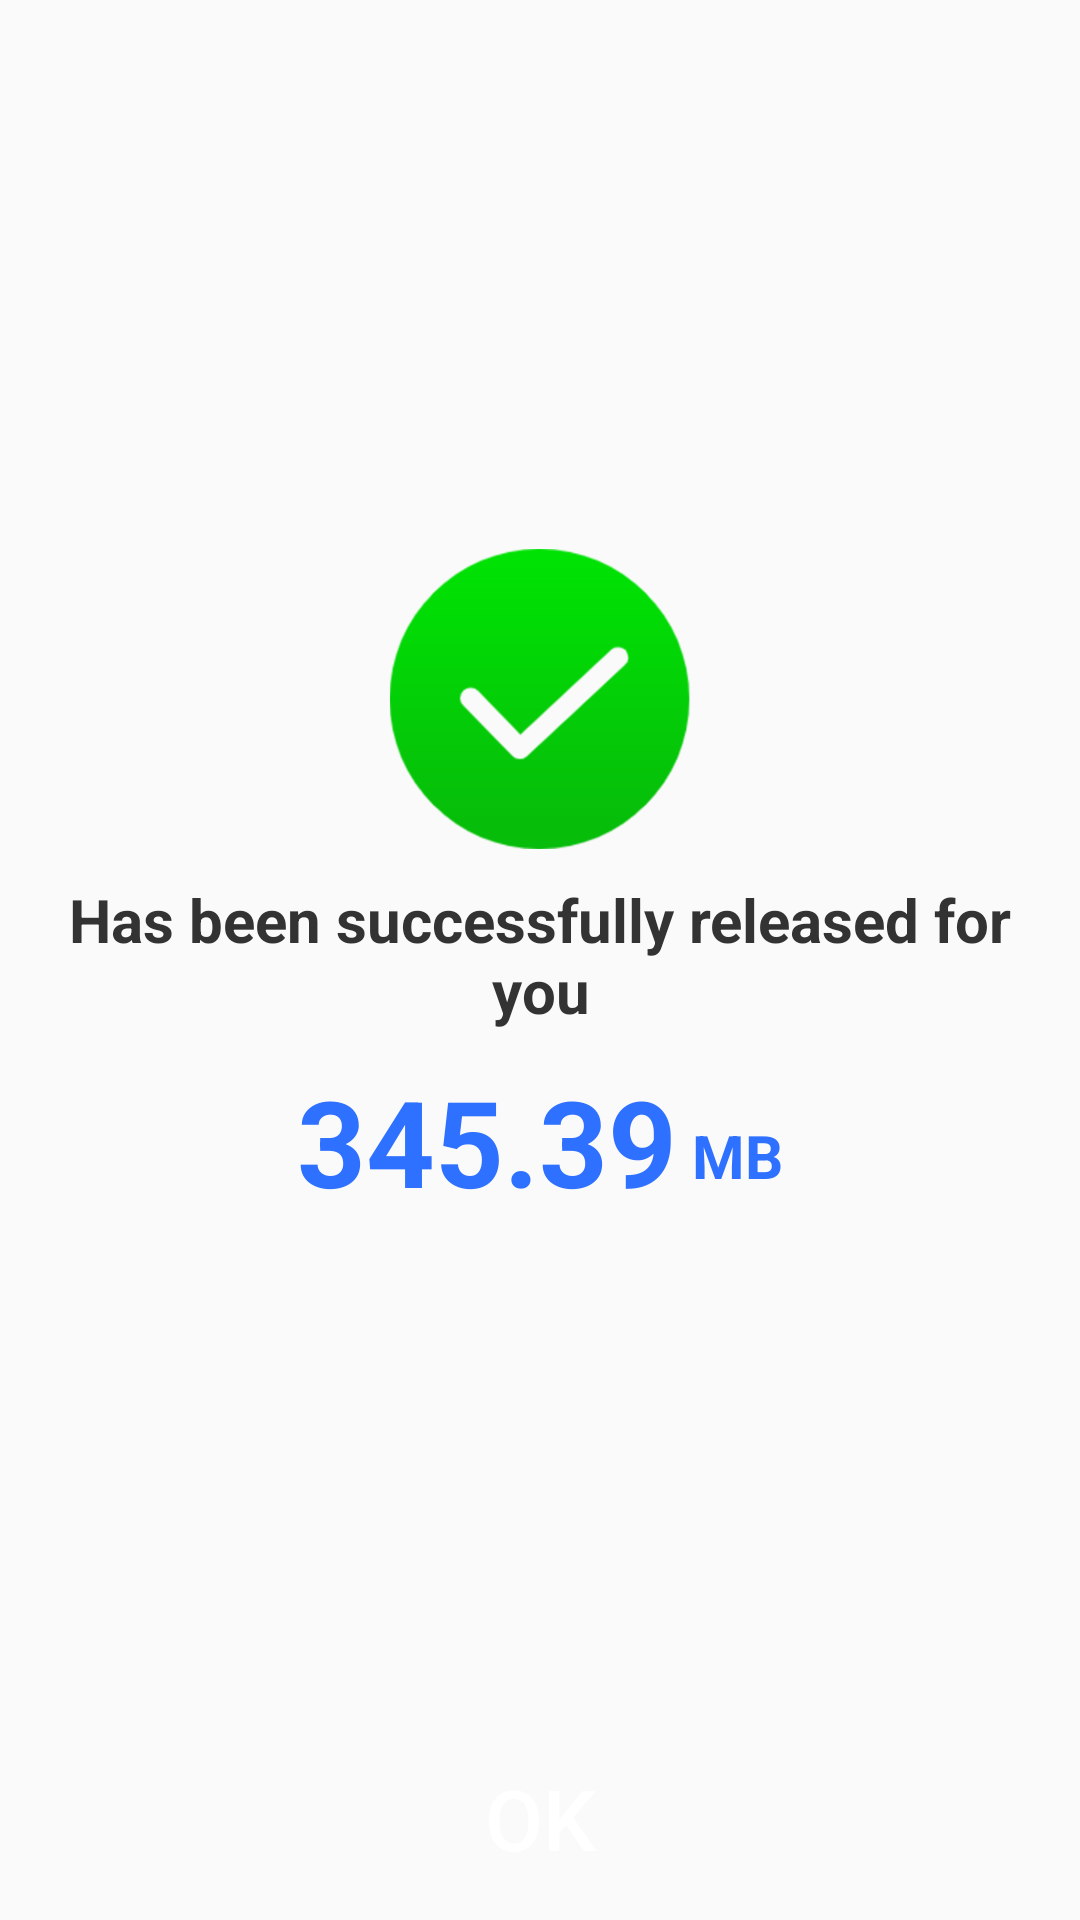

Icons on this 1080 x 1920 Android screen, each with the point to tap as point (x, y):
finish: point (540, 699)
